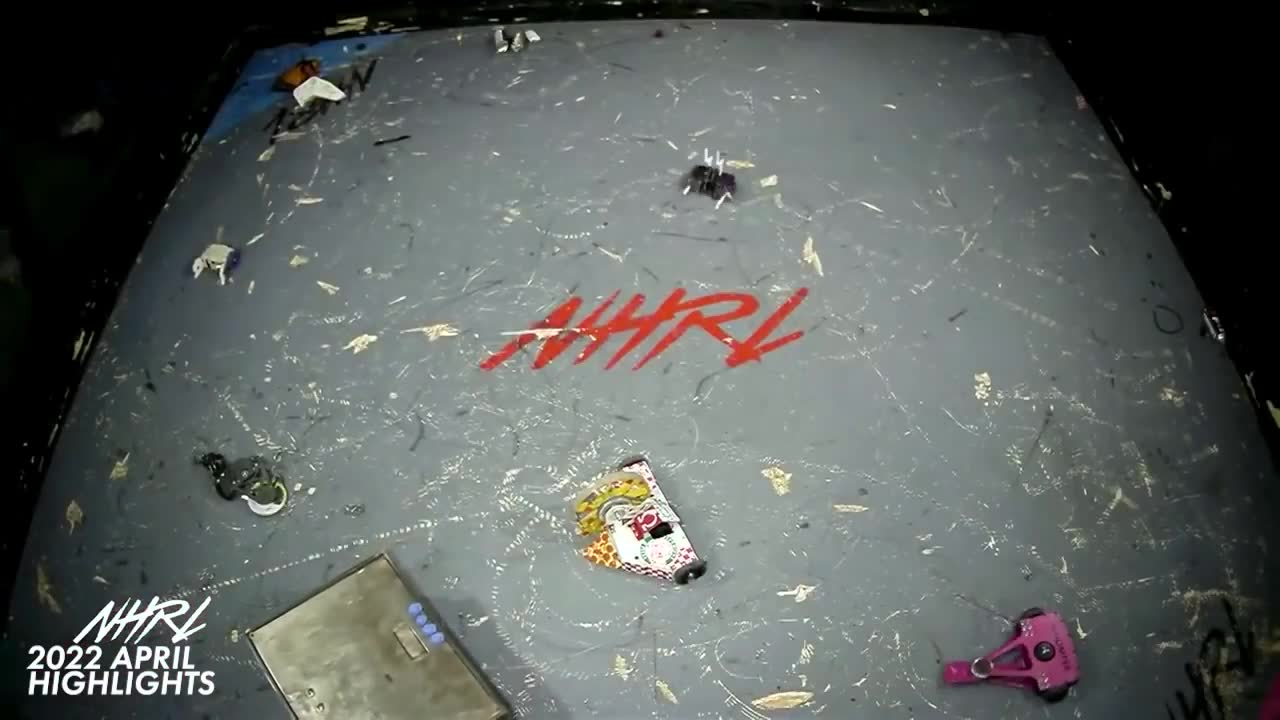combatbot: (573, 454, 700, 587), (937, 604, 1090, 709), (668, 145, 759, 213), (203, 450, 292, 518), (186, 227, 246, 296)
debris: (263, 50, 352, 107), (482, 21, 546, 54)
housebot: (236, 548, 521, 720)
